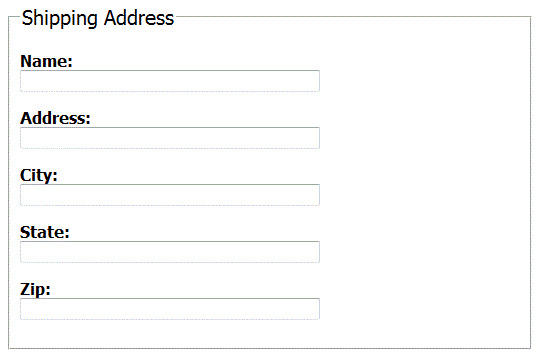_form_: (1, 1, 416, 359)
field: (17, 68, 321, 94), (17, 182, 321, 207), (17, 296, 320, 321), (17, 240, 321, 264), (19, 126, 319, 150)
field_with_label: (14, 53, 322, 97), (16, 167, 323, 209), (18, 111, 321, 152), (15, 282, 322, 322), (16, 225, 322, 265)
